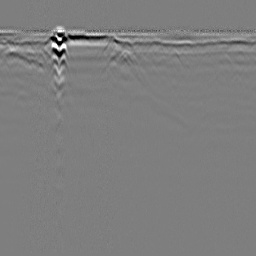cavity: (115, 47, 140, 67)
